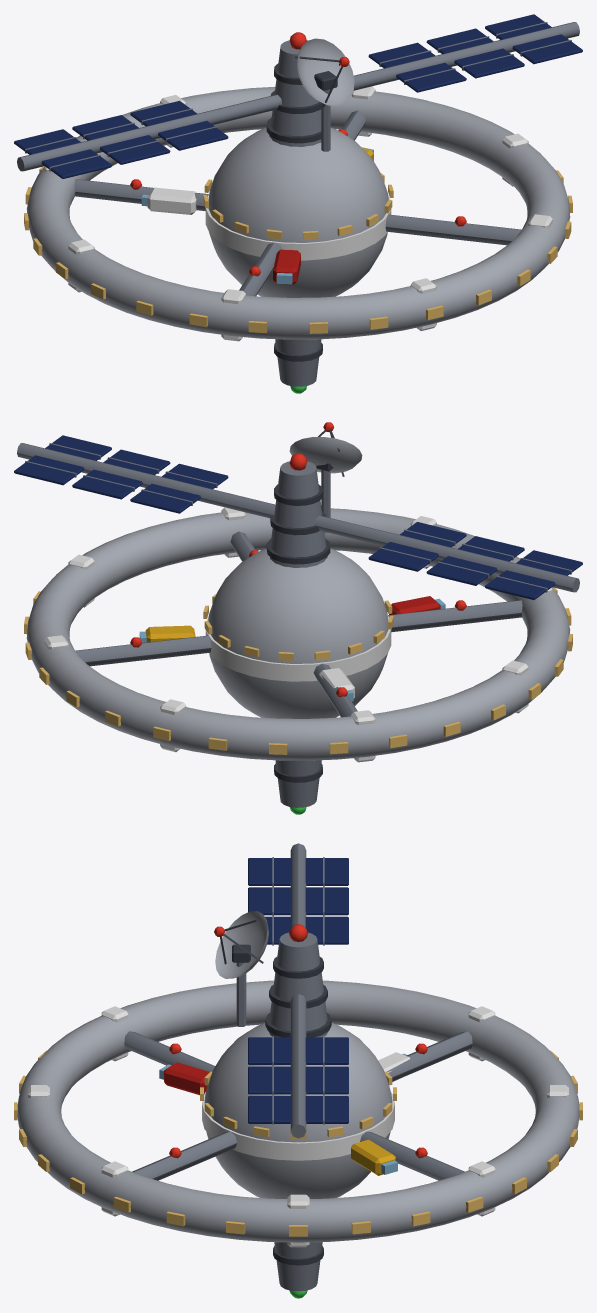
File: station.fbx
3 views of the same model, one above another, from view 1: azimuth 30°, elevation 25°; view 2: azimuth 150°, elevation 25°; view 3: azimuth 270°, elevation 25° (orthographic). The views are drawn at different scales.
Parts seen in each view (by area): view 1: station, station__station_ring, station__dish; view 2: station, station__station_ring, station__dish; view 3: station__station_ring, station, station__dish.
Part boxes in pixels (x1=…): station: x1=14, y1=14, x2=582, y2=393; station__station_ring: x1=24, y1=86, x2=572, y2=341; station__dish: x1=294, y1=38, x2=354, y2=107; station: x1=14, y1=435, x2=582, y2=814; station__station_ring: x1=24, y1=507, x2=572, y2=762; station__dish: x1=289, y1=422, x2=362, y2=476; station__station_ring: x1=14, y1=980, x2=582, y2=1247; station: x1=159, y1=843, x2=410, y2=1298; station__dish: x1=214, y1=911, x2=268, y2=978.
Size of the model in its own units: 2.1 by 1.32 by 1.8.
